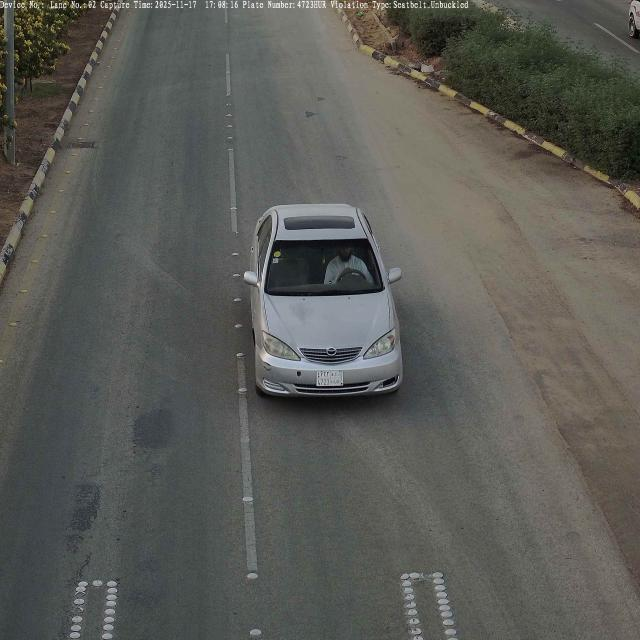person_without_seatbelt: (326, 242, 370, 287)
